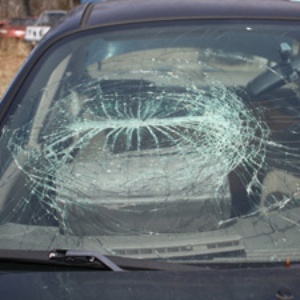bumper_scratch: (193, 136, 228, 192)
